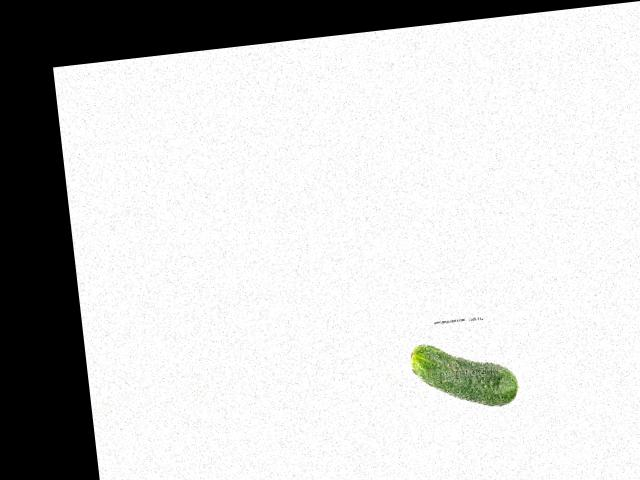cucumber: (409, 334, 521, 415)
